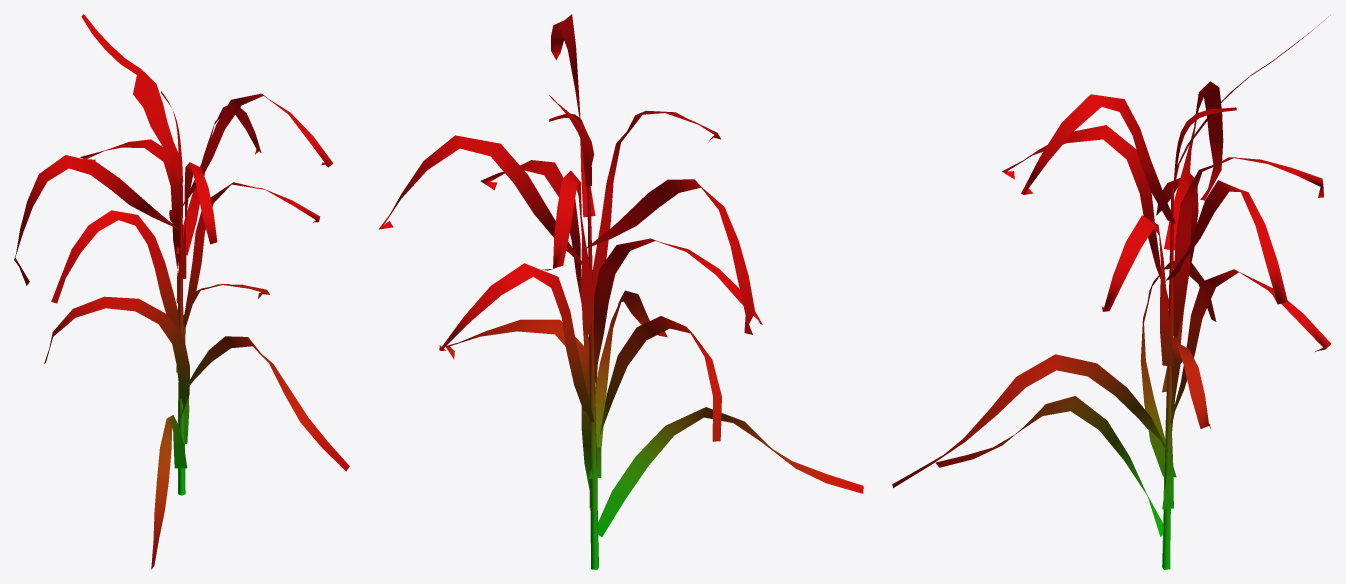
The model's file is Great Brome_LOD1_Var5_tjugaikia.fbx.
3 renders of one model, left to right at view 1: azimuth 30°, elevation 25°; view 2: azimuth 150°, elevation 25°; view 3: azimuth 270°, elevation 25°, orthographic. The views are drawn at different scales.
Parts seen in each view (by area): view 1: _2a3a_Var5_LOD1; view 2: _2a3a_Var5_LOD1; view 3: _2a3a_Var5_LOD1.
Part boxes in pixels (bbox=[...]): _2a3a_Var5_LOD1: bbox=[14, 14, 349, 569]; _2a3a_Var5_LOD1: bbox=[378, 14, 863, 569]; _2a3a_Var5_LOD1: bbox=[892, 15, 1330, 569].
Size of the model in its own units: 51.75 by 79.12 by 58.76.
